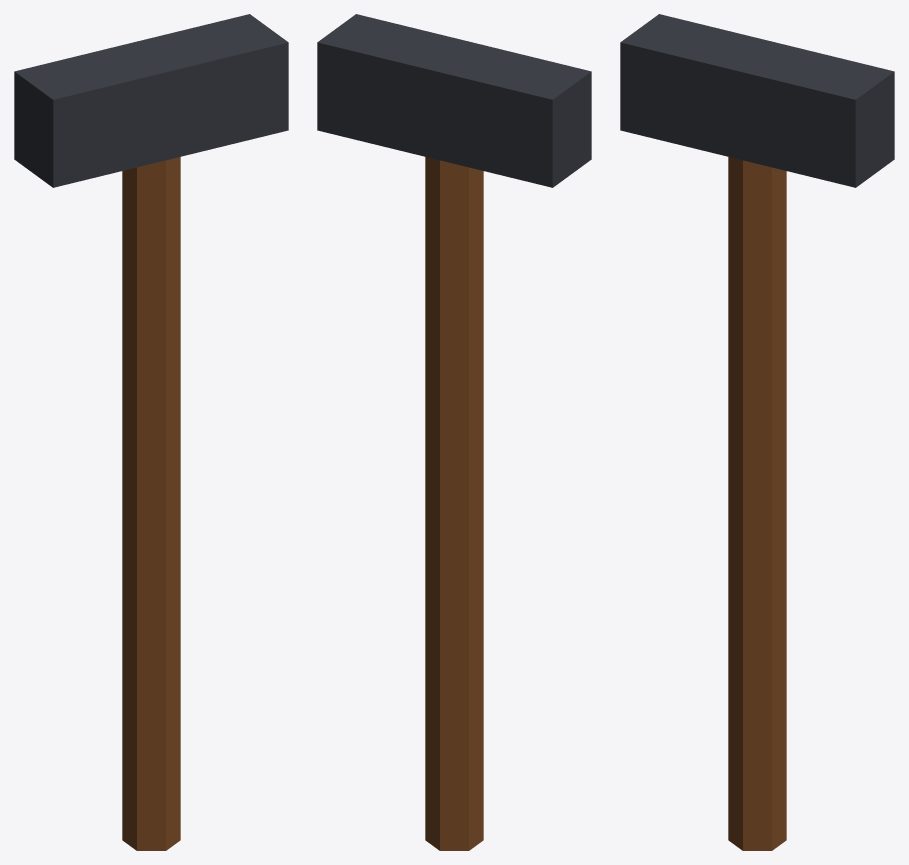
File: garage_hammer.glb
The picture shows the model from 3 angles, left to right: view 1: azimuth 30°, elevation 25°; view 2: azimuth 150°, elevation 25°; view 3: azimuth 330°, elevation 25°; orthographic projection.
Parts seen in each view (by area): view 1: hammer; view 2: hammer; view 3: hammer.
Part boxes in pixels (x1=…): hammer: x1=14, y1=14, x2=288, y2=850; hammer: x1=317, y1=14, x2=591, y2=850; hammer: x1=620, y1=14, x2=894, y2=850.
Bounding box in the file's own units: 0.14 × 0.445 × 0.04.
